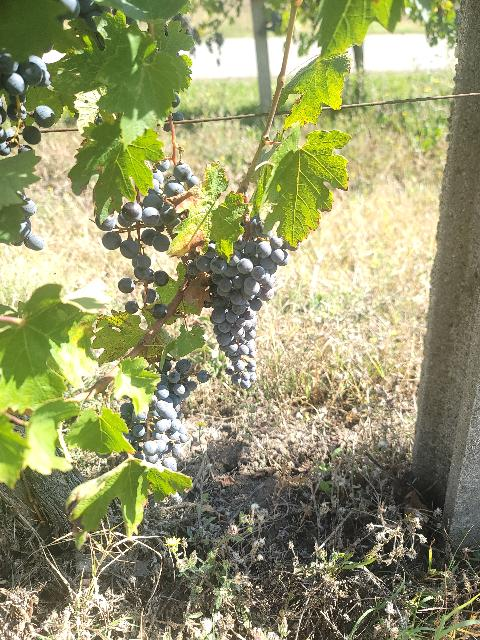grapes: (195, 216, 290, 389), (96, 160, 199, 286), (120, 359, 198, 471)
